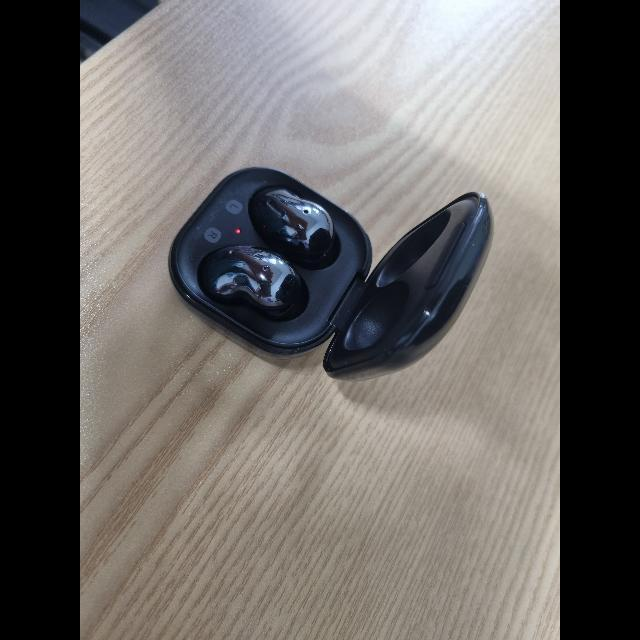buds_live: (168, 166, 496, 384)
